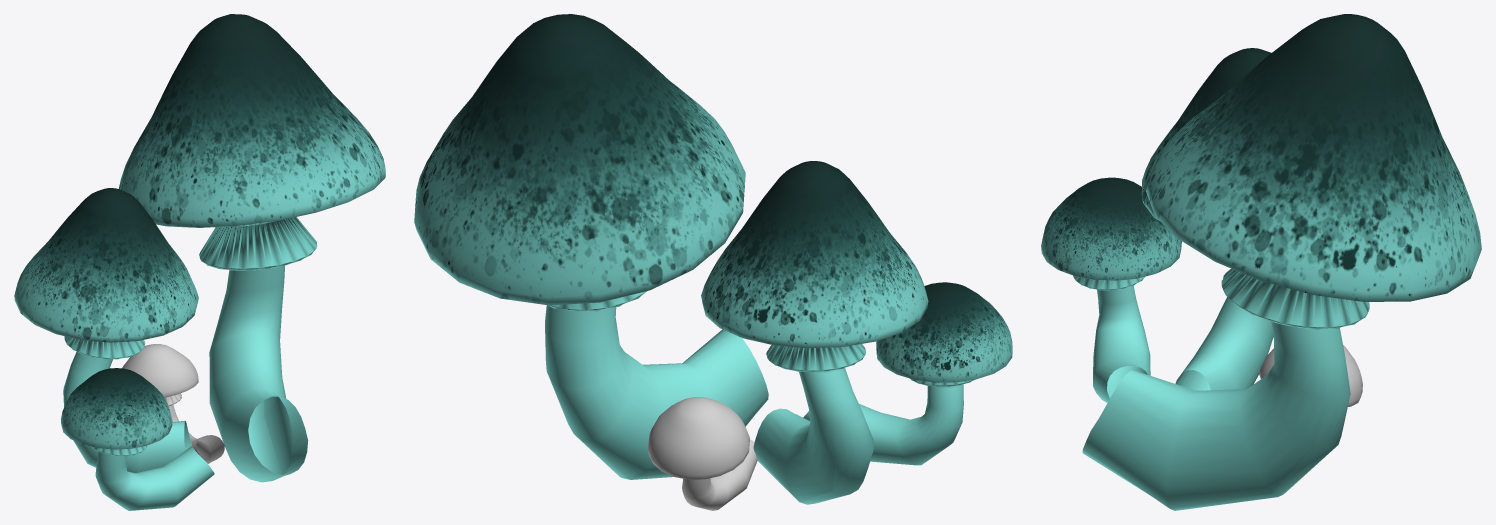
File: GlowMushCloude.fbx
3 renders of one model, left to right at view 1: azimuth 30°, elevation 25°; view 2: azimuth 150°, elevation 25°; view 3: azimuth 270°, elevation 25°, orthographic. The views are drawn at different scales.
Visible parts, largest first — view 1: mushroom5, mushroom6, pSphere2, pSphere3; view 2: mushroom5, mushroom6, pSphere2, pSphere3; view 3: mushroom5, pSphere2, mushroom6, pSphere3.
Part boxes in pixels (bbox=[...]): mushroom5: bbox=[119, 14, 385, 482]; mushroom6: bbox=[14, 188, 198, 472]; pSphere2: bbox=[61, 368, 214, 510]; pSphere3: bbox=[122, 344, 224, 463]; mushroom5: bbox=[414, 14, 768, 479]; mushroom6: bbox=[701, 161, 928, 504]; pSphere2: bbox=[803, 282, 1012, 465]; pSphere3: bbox=[648, 397, 757, 510]; mushroom5: bbox=[1082, 14, 1481, 510]; pSphere2: bbox=[1041, 177, 1181, 402]; mushroom6: bbox=[1141, 48, 1273, 390]; pSphere3: bbox=[1259, 345, 1362, 406].
Size of the model in its own units: 12.97 by 13.24 by 10.29.
